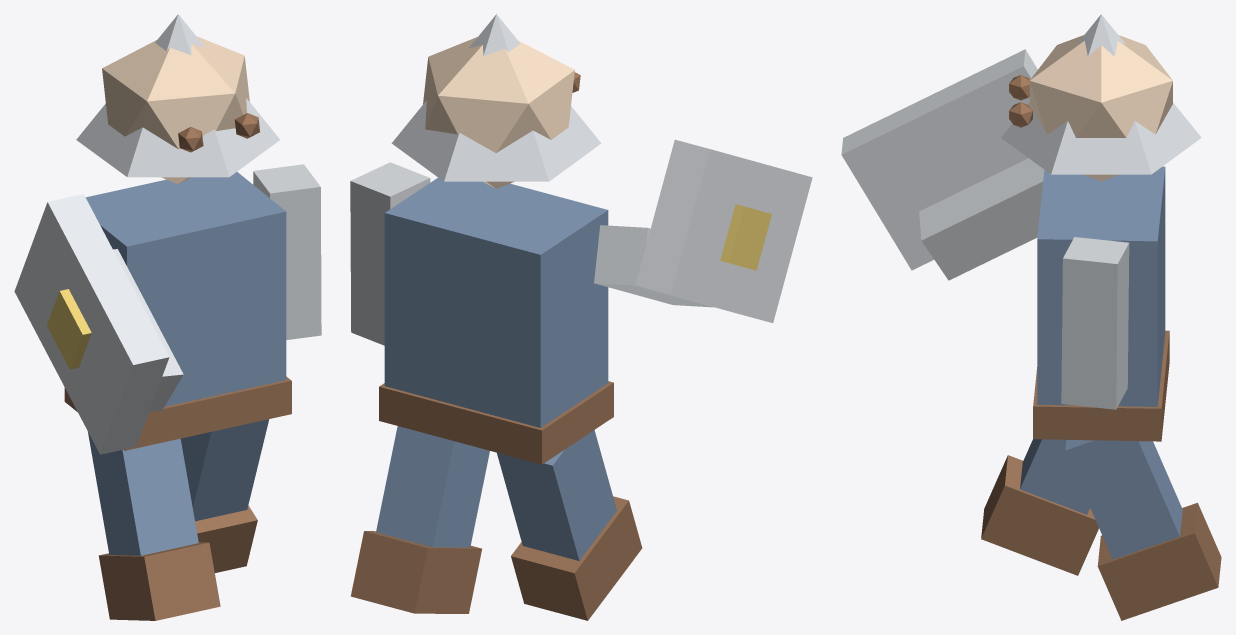
The model's file is npcpose_guard_walk_08.glb.
The picture shows the model from 3 angles, left to right: view 1: azimuth 30°, elevation 25°; view 2: azimuth 150°, elevation 25°; view 3: azimuth 270°, elevation 25°; orthographic projection. The views are drawn at different scales.
Visible parts, largest first — view 1: npcpose; view 2: npcpose; view 3: npcpose.
Part boxes in pixels (x1,y1,x2,y2): npcpose: [14, 14, 321, 620]; npcpose: [350, 14, 812, 620]; npcpose: [841, 14, 1221, 620].
Bounding box in the file's own units: 0.8924 × 1.56 × 0.9462.
